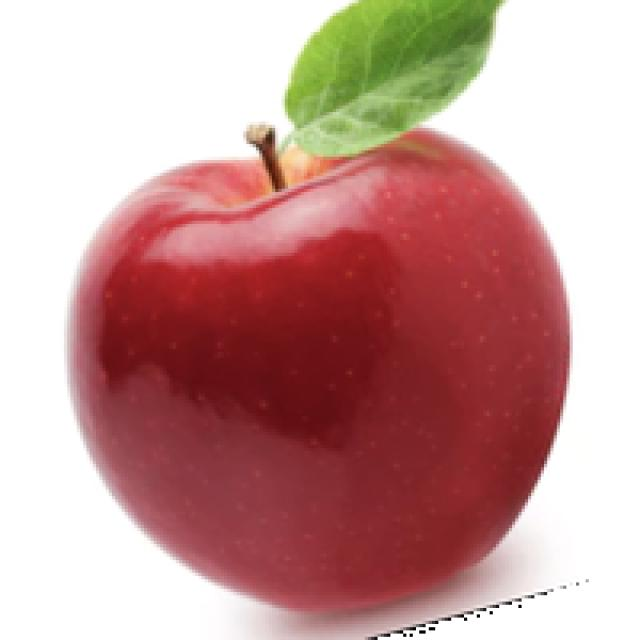apple: (61, 0, 573, 637)
